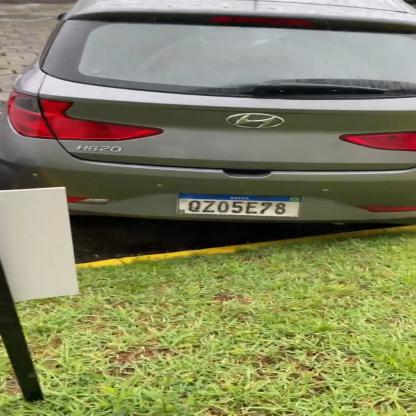Plate: (174, 188, 305, 219)
